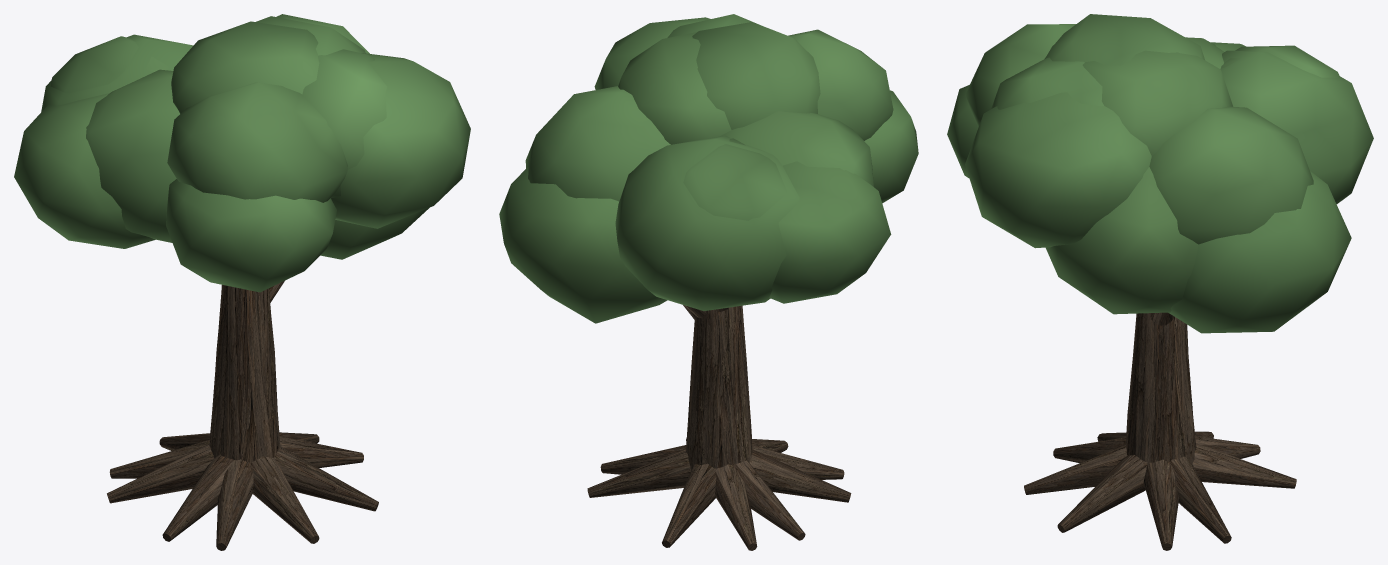
Rendered from ancient-tree-roots-v01-photo.glb.
3 views of the same model, side by side, from view 1: azimuth 30°, elevation 25°; view 2: azimuth 150°, elevation 25°; view 3: azimuth 270°, elevation 25° (orthographic). The views are drawn at different scales.
Parts seen in each view (by area): view 1: ancient-tree; view 2: ancient-tree; view 3: ancient-tree.
Part boxes in pixels (x1=…): ancient-tree: x1=14, y1=14, x2=470, y2=550; ancient-tree: x1=499, y1=14, x2=918, y2=550; ancient-tree: x1=947, y1=14, x2=1373, y2=550.
Size of the model in its own units: 6.75 by 8.33 by 6.92.
2 materials, 1 textured.
